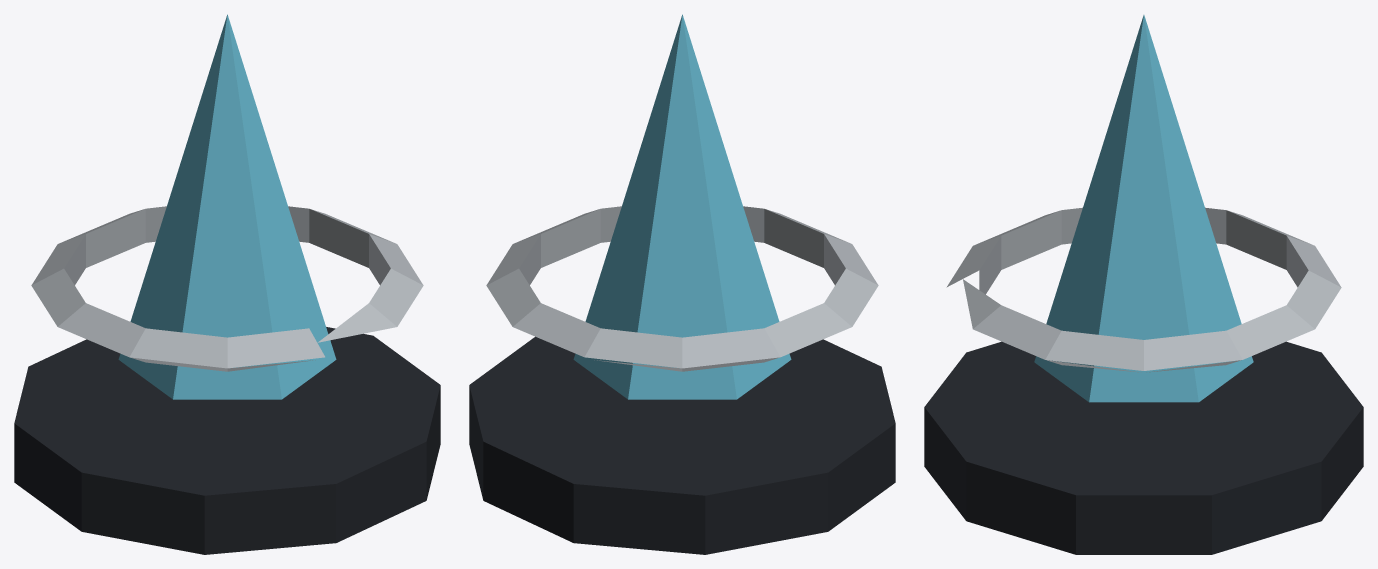
Rendered from focus-generator.lod.glb.
3 views of the same model, side by side, from view 1: azimuth 30°, elevation 25°; view 2: azimuth 150°, elevation 25°; view 3: azimuth 270°, elevation 25° (orthographic).
Visible parts, largest first — view 1: m; view 2: m; view 3: m.
Boxes of the visible parts, x1,y1,x2,y2 form: m: (14, 14, 440, 554); m: (469, 14, 895, 554); m: (924, 15, 1363, 554).
Size of the model in its own units: 0.0752 by 0.09 by 0.0791.
